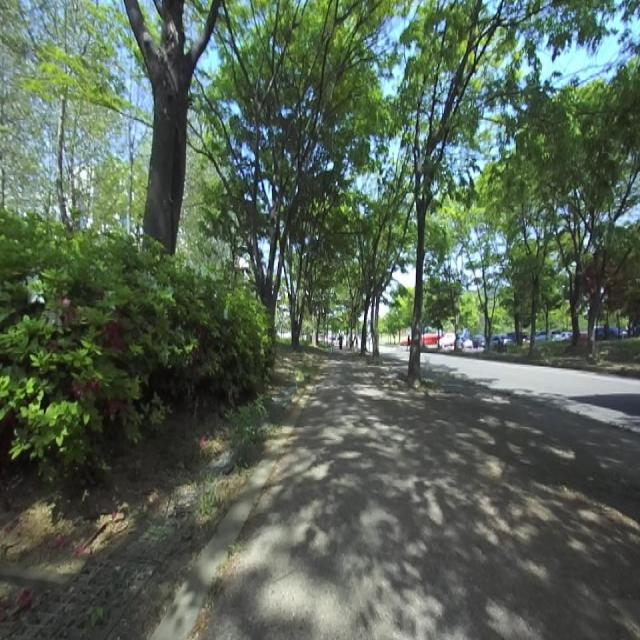sidewalk: (199, 356, 640, 639)
